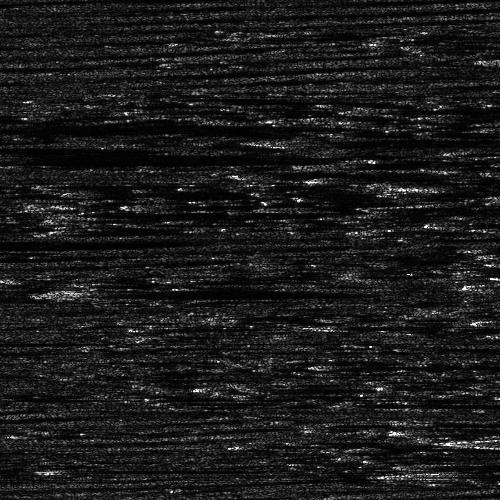object: (342, 178, 500, 195), (418, 432, 500, 449), (357, 466, 462, 479), (422, 276, 495, 293), (368, 459, 461, 470), (390, 220, 500, 229), (243, 136, 348, 145), (298, 398, 391, 407), (281, 157, 364, 166), (47, 208, 110, 217), (47, 292, 110, 297), (296, 361, 349, 366), (0, 152, 18, 163), (26, 467, 89, 470)
shadow: (0, 120, 272, 133), (0, 152, 238, 163), (79, 208, 307, 217), (296, 136, 484, 145), (345, 398, 500, 407), (426, 178, 500, 195), (79, 292, 315, 297), (410, 466, 500, 479), (415, 459, 500, 470), (322, 361, 500, 366), (323, 157, 419, 166), (0, 131, 77, 142), (0, 238, 113, 245), (458, 276, 500, 293), (57, 467, 244, 470), (74, 227, 166, 232), (452, 220, 500, 229), (0, 254, 43, 259)
